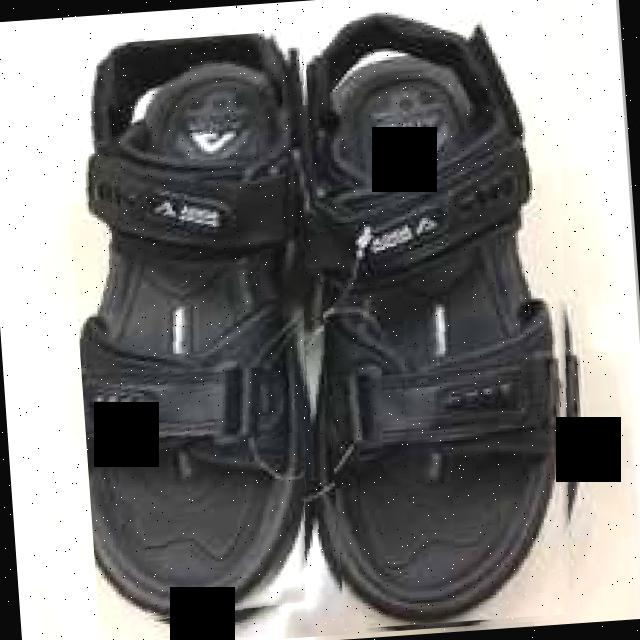shoe: (59, 8, 600, 640), (302, 3, 595, 629), (58, 29, 344, 628)
